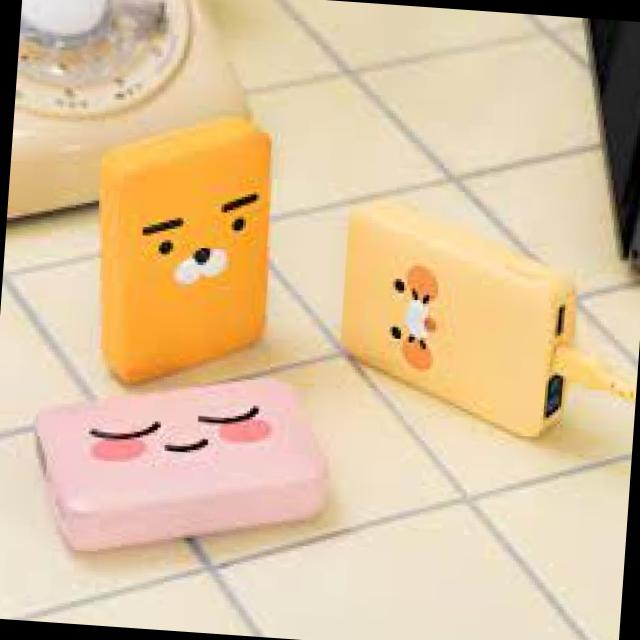portable-charger: (25, 359, 342, 576), (330, 196, 581, 442), (77, 108, 280, 396)
